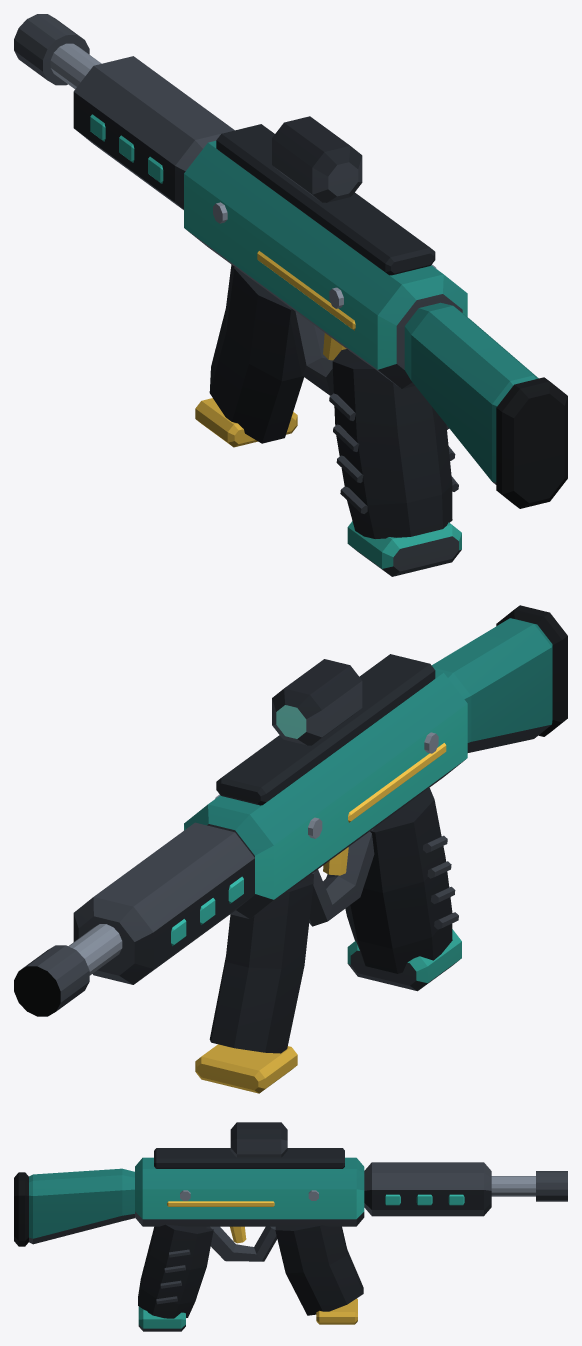
The model's file is Rifle.fbx.
3 renders of one model, top to bottom at view 1: azimuth 30°, elevation 25°; view 2: azimuth 150°, elevation 25°; view 3: azimuth 270°, elevation 25°, orthographic. The views are drawn at different scales.
Visible parts, largest first — view 1: Receiver, Grip, Handguard, Stock, Magazine, TopRail, ButtPad, RedDot, Barrel, GripHeel, Guard, MagBase (+3 smaller); view 2: Receiver, Handguard, Grip, Magazine, Stock, TopRail, RedDot, Barrel, MagBase, Guard, GripHeel, ButtPad (+3 smaller); view 3: Receiver, Handguard, Stock, Magazine, Grip, TopRail, RedDot, Barrel, Guard, ButtPad, GripHeel, MagBase (+3 smaller).
Boxes of the visible parts, box(x1,y1,x2,y2) form: Receiver: box(184, 140, 467, 388); Grip: box(332, 349, 452, 538); Handguard: box(73, 56, 234, 209); Stock: box(404, 302, 538, 484); Magazine: box(209, 264, 303, 443); TopRail: box(216, 124, 435, 275); ButtPad: box(496, 377, 567, 508); RedDot: box(272, 116, 362, 202); Barrel: box(14, 14, 101, 88); GripHeel: box(347, 521, 461, 576); Guard: box(290, 309, 348, 395); MagBase: box(195, 398, 297, 447); Receiver: box(184, 670, 467, 918); Handguard: box(73, 822, 254, 984); Grip: box(345, 787, 452, 973); Magazine: box(209, 874, 313, 1053); Stock: box(432, 618, 552, 752); TopRail: box(216, 654, 435, 805); RedDot: box(272, 659, 362, 745); Barrel: box(14, 924, 122, 1016); MagBase: box(195, 1044, 297, 1093); Guard: box(309, 828, 374, 926); GripHeel: box(347, 929, 461, 991); ButtPad: box(496, 605, 567, 736); Receiver: box(135, 1157, 364, 1226); Handguard: box(364, 1162, 491, 1216); Stock: box(29, 1168, 134, 1244); Magazine: box(275, 1225, 363, 1315); Grip: box(138, 1224, 213, 1318); TopRail: box(154, 1148, 344, 1168); RedDot: box(230, 1122, 287, 1157); Barrel: box(491, 1171, 567, 1201); Guard: box(206, 1226, 277, 1261); ButtPad: box(14, 1172, 28, 1246); GripHeel: box(138, 1306, 185, 1331); MagBase: box(316, 1298, 357, 1324).
Bounding box in the file's own units: 0.1018 × 0.343 × 0.87.
Materials: 1 (1 with a texture image).
